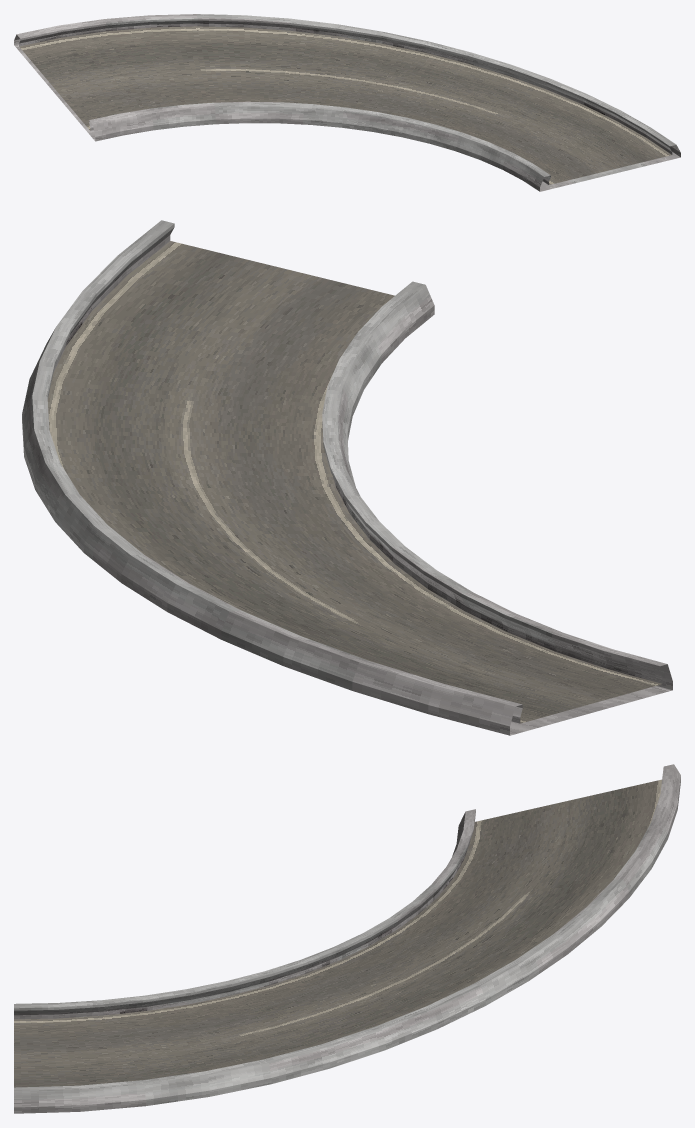
File: turn-left3x3.glb
The picture shows the model from 3 angles, top to bottom: view 1: azimuth 30°, elevation 25°; view 2: azimuth 150°, elevation 25°; view 3: azimuth 270°, elevation 25°; orthographic projection. The views are drawn at different scales.
Visible parts, largest first — view 1: road-Turn-Flat-HalfBankedLeft-Even-Left-Size3; view 2: road-Turn-Flat-HalfBankedLeft-Even-Left-Size3; view 3: road-Turn-Flat-HalfBankedLeft-Even-Left-Size3.
Part boxes in pixels (box(x1,y1,x2,y2)): road-Turn-Flat-HalfBankedLeft-Even-Left-Size3: box(14, 14, 680, 191); road-Turn-Flat-HalfBankedLeft-Even-Left-Size3: box(22, 220, 672, 735); road-Turn-Flat-HalfBankedLeft-Even-Left-Size3: box(14, 764, 680, 1113).
Size of the model in its own units: 3 by 0.3359 by 3.
2 materials, 2 textured.
